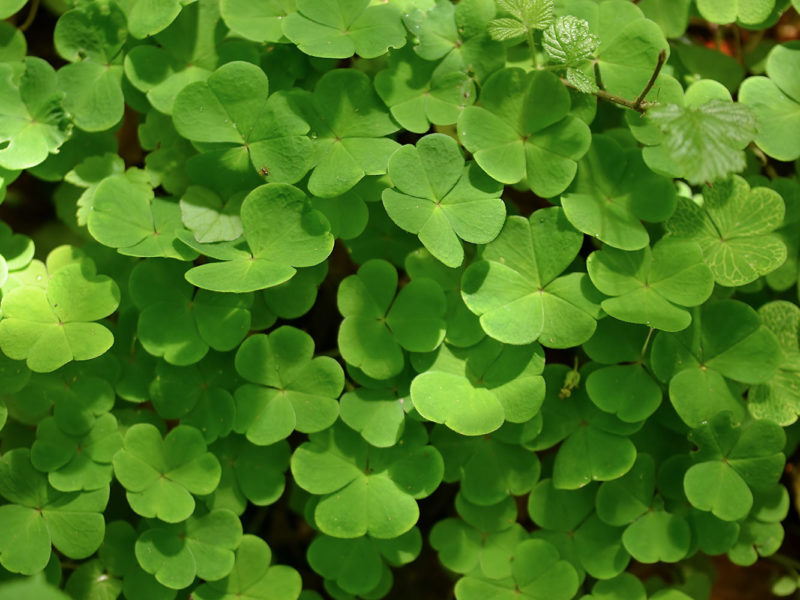oxalis: (9, 11, 800, 581)
